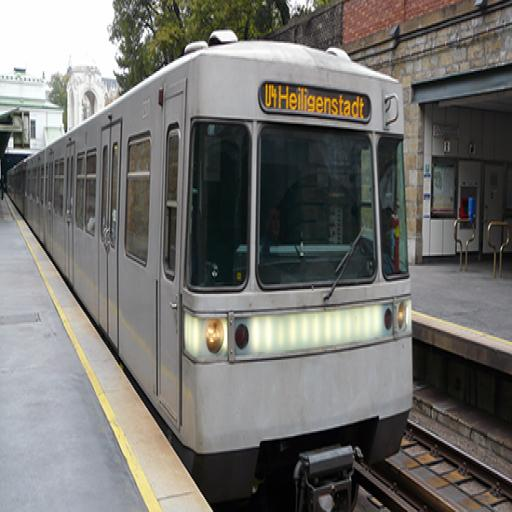Silberpfeil: (6, 28, 415, 446)
